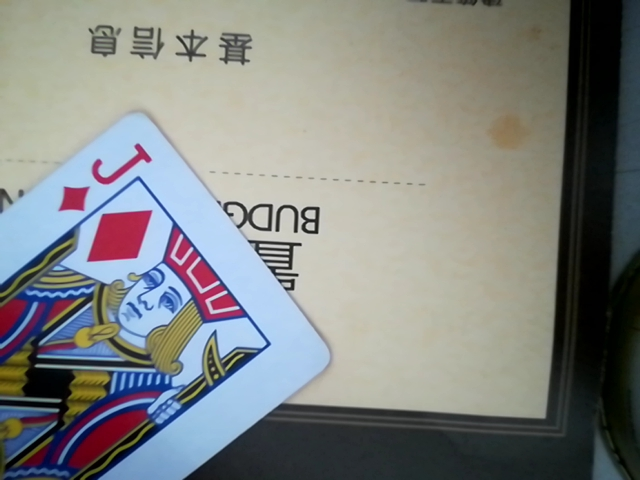fk j: (5, 99, 342, 480)
